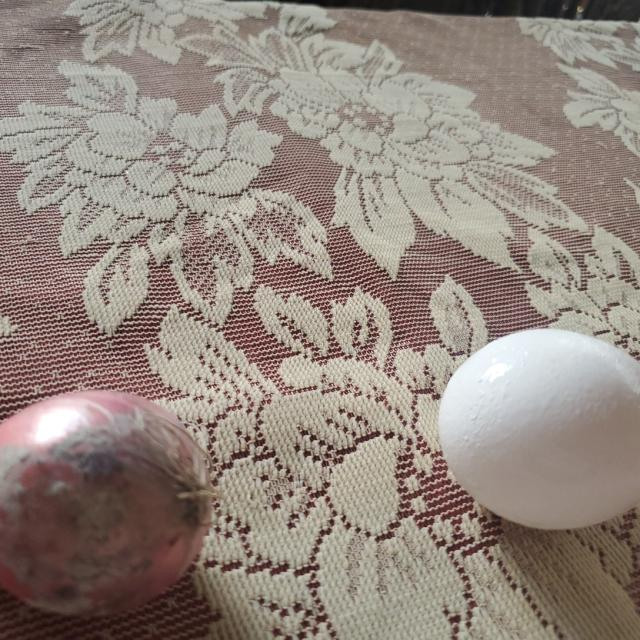egg: (442, 328, 640, 526)
onion: (0, 387, 218, 617)
